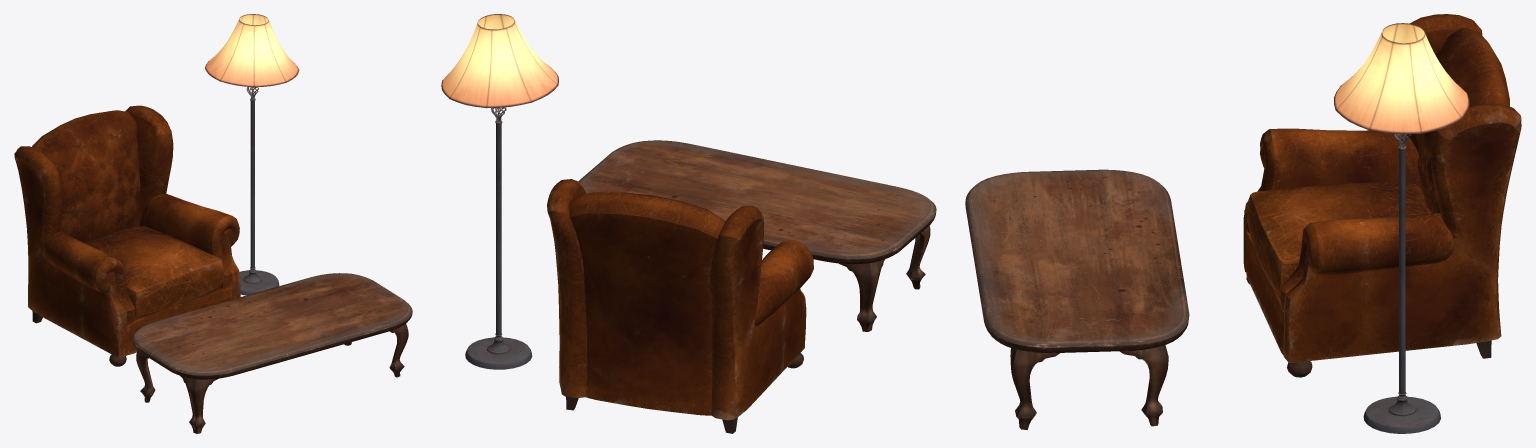
Rendered from armset.glb.
The picture shows the model from 3 angles, left to right: view 1: azimuth 30°, elevation 25°; view 2: azimuth 150°, elevation 25°; view 3: azimuth 270°, elevation 25°; orthographic projection. The views are drawn at different scales.
Parts seen in each view (by area): view 1: ARMCHAIR, COFFEETABLE, FLOORLAMP_TEXSET_A_0; view 2: ARMCHAIR, COFFEETABLE, FLOORLAMP_TEXSET_A_0; view 3: ARMCHAIR, COFFEETABLE, FLOORLAMP_TEXSET_A_0.
Boxes of the visible parts, <box> form: ARMCHAIR: <box>14,105,240,366</box>; COFFEETABLE: <box>132,273,412,433</box>; FLOORLAMP_TEXSET_A_0: <box>205,14,299,295</box>; ARMCHAIR: <box>547,179,813,433</box>; COFFEETABLE: <box>578,140,936,331</box>; FLOORLAMP_TEXSET_A_0: <box>441,14,558,369</box>; ARMCHAIR: <box>1243,14,1521,377</box>; COFFEETABLE: <box>965,169,1189,429</box>; FLOORLAMP_TEXSET_A_0: <box>1334,23,1469,433</box>.
Bounding box in the file's own units: 1.61 × 1.6 × 2.08.
Materials: 1 (1 with a texture image).
